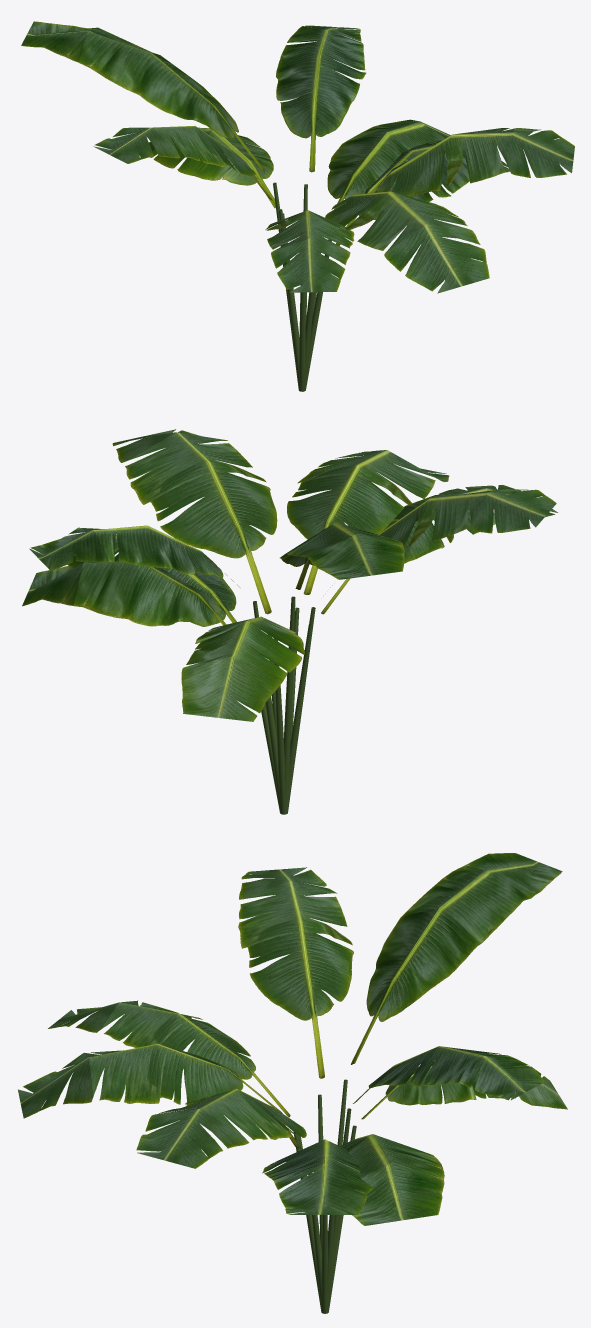
Rendered from broadleaf_03.glb.
The picture shows the model from 3 angles, top to bottom: view 1: azimuth 30°, elevation 25°; view 2: azimuth 150°, elevation 25°; view 3: azimuth 270°, elevation 25°; orthographic projection. The views are drawn at different scales.
Parts seen in each view (by area): view 1: broadleaf_03; view 2: broadleaf_03; view 3: broadleaf_03.
Part boxes in pixels (left/top/right/bottom): broadleaf_03: left=21, top=21, right=574, bottom=391; broadleaf_03: left=22, top=429, right=557, bottom=814; broadleaf_03: left=18, top=853, right=567, bottom=1313.
Bounding box in the file's own units: 2.6 × 1.85 × 2.57.
Materials: 2 (1 with a texture image).
